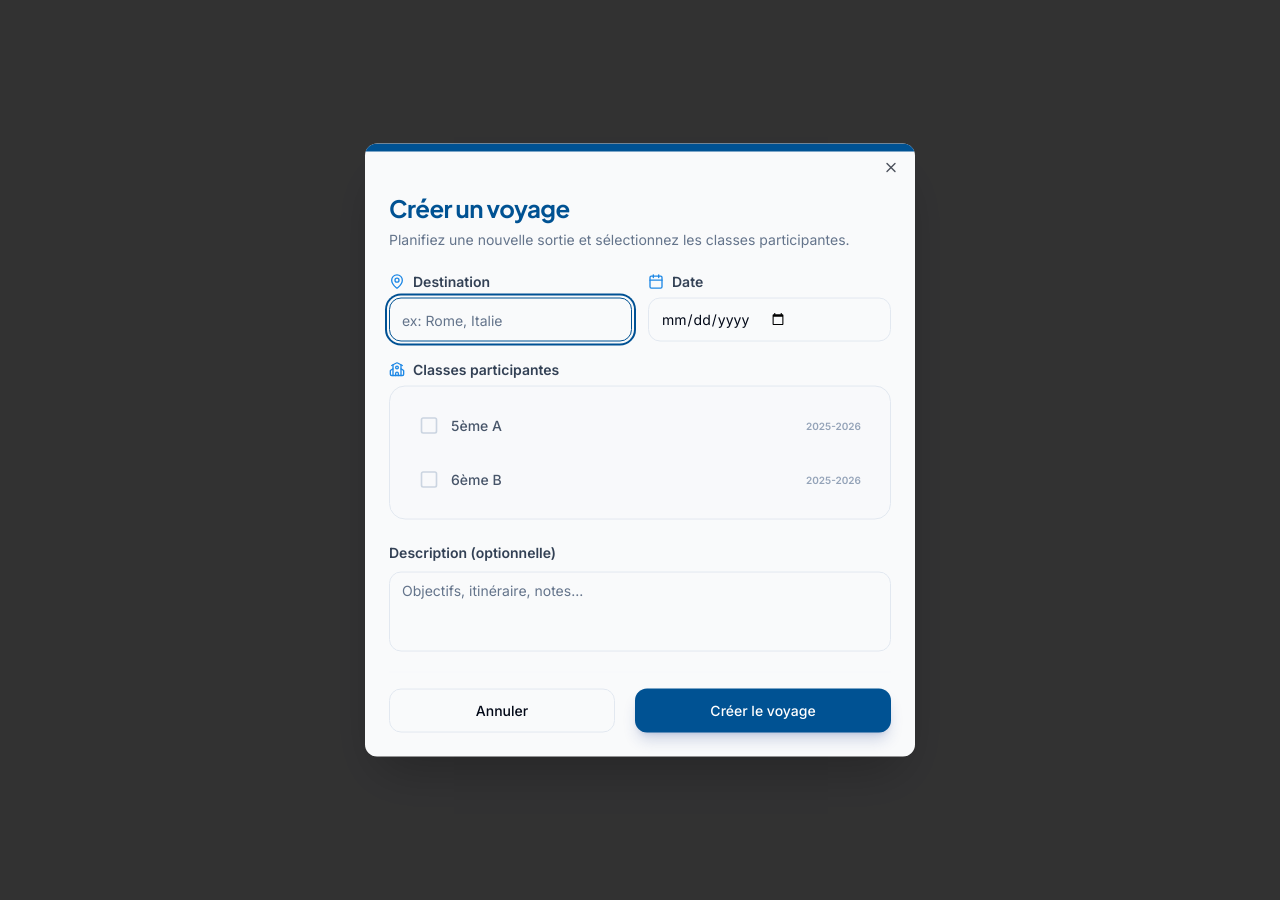
CreateTripDialog › shows server error on API failure
Expected: the text "5ème A" is shown, [451,416,502,436]
Type "Paris" into the field with placeholder "ex: Rome, Italie" at x=510, y=320, box [389,298,632,342]
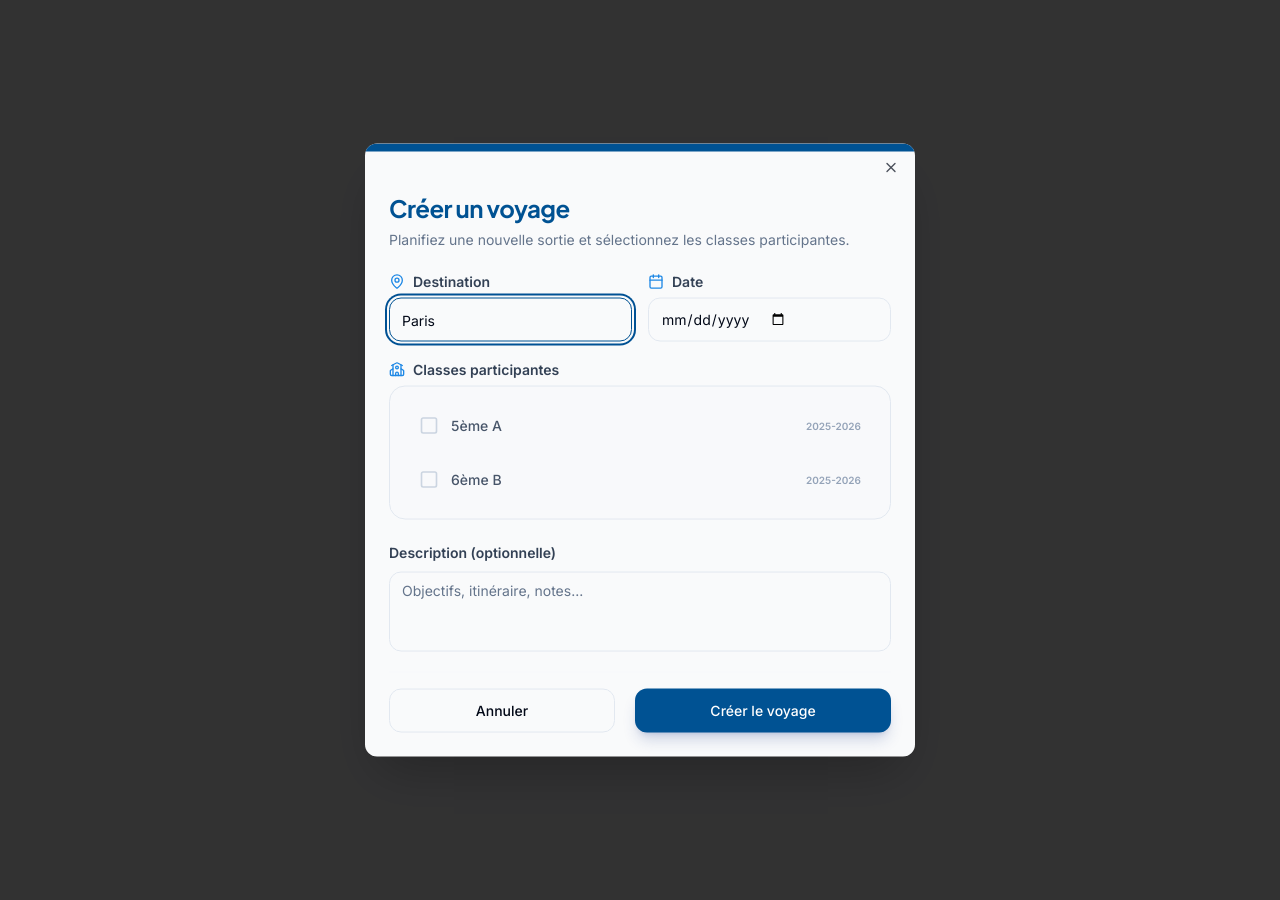
Note: Set date
Type "2026-05-10" into the date field labelled "Date" at x=770, y=320, box [648,298,891,342]
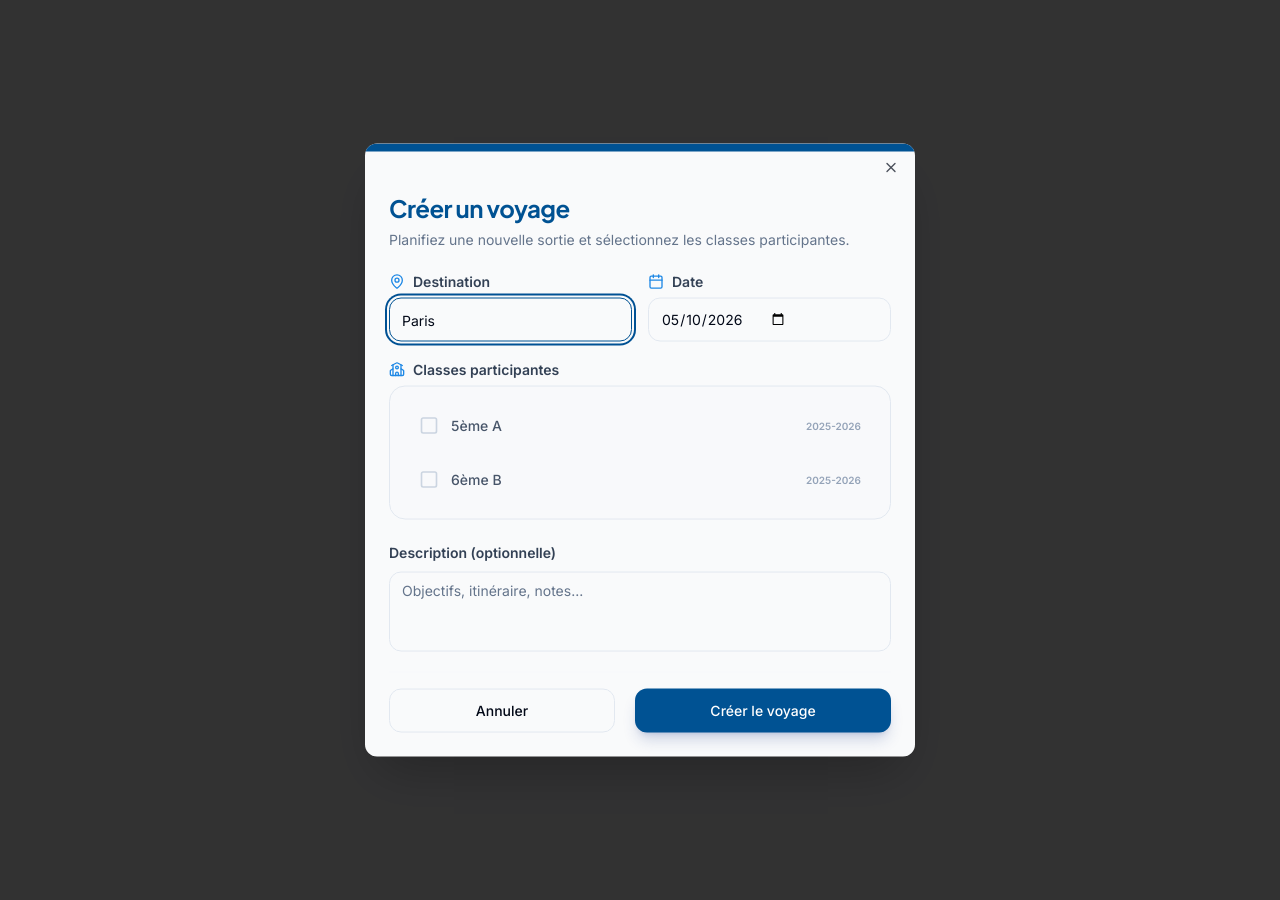
Note: Select a class
Click the text "5ème A" at x=476, y=426, box [451,416,502,436]
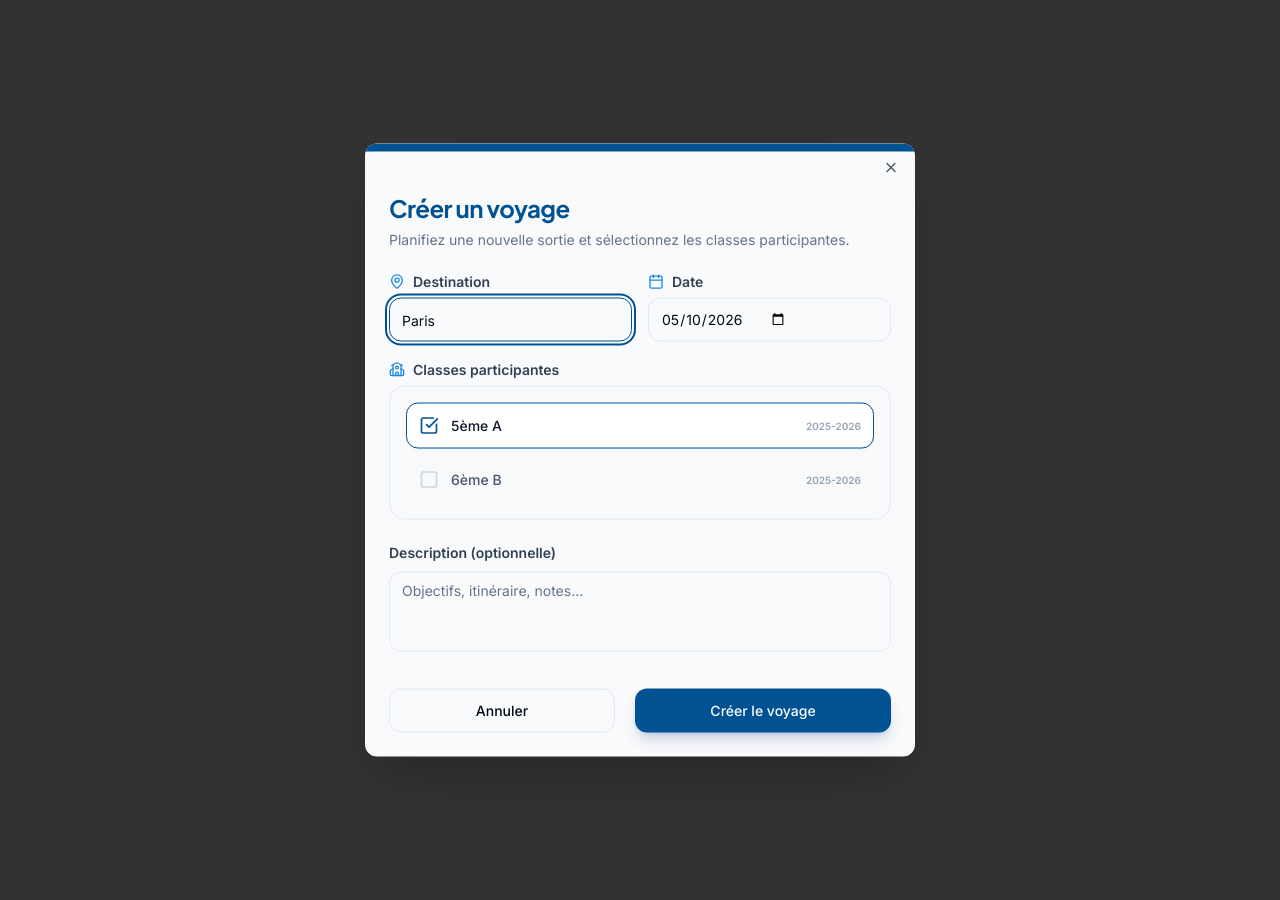
Click the button "Créer le voyage" at x=763, y=710, box [635,688,891,732]
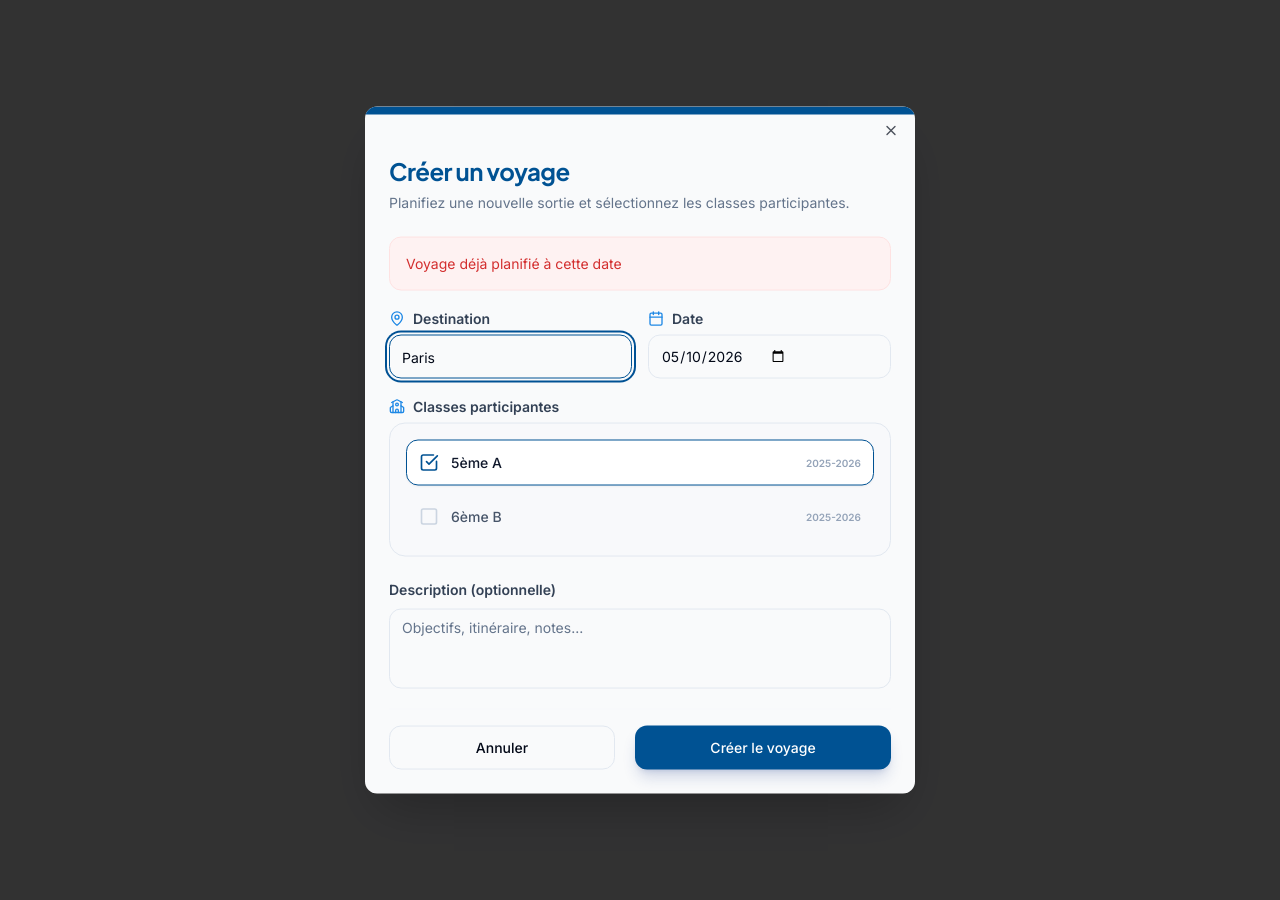
Expected: the text "Voyage déjà planifié à cette date" is shown, [389,236,891,290]
